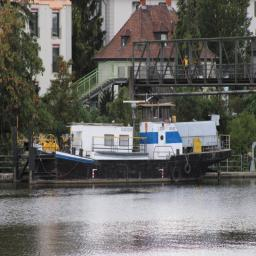tugboat: (13, 99, 234, 188)
